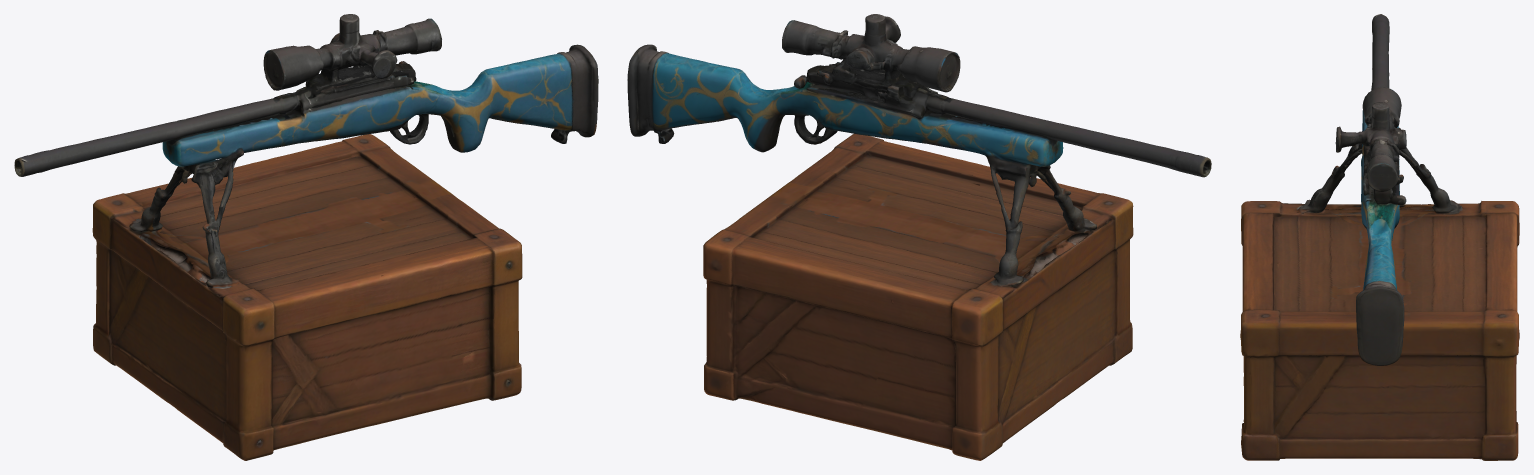
The model's file is Cracked_Serenity_compressed.glb.
3 views of the same model, side by side, from view 1: azimuth 30°, elevation 25°; view 2: azimuth 150°, elevation 25°; view 3: azimuth 270°, elevation 25° (orthographic). The views are drawn at different scales.
Bounding box in the file's own units: 2 × 1.16 × 0.9385.
Materials: 1 (1 with a texture image).
